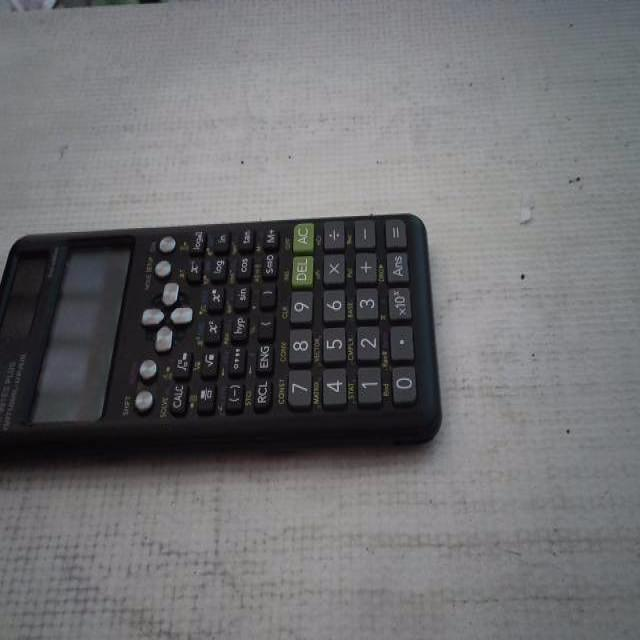Calculator: (1, 209, 444, 456)
